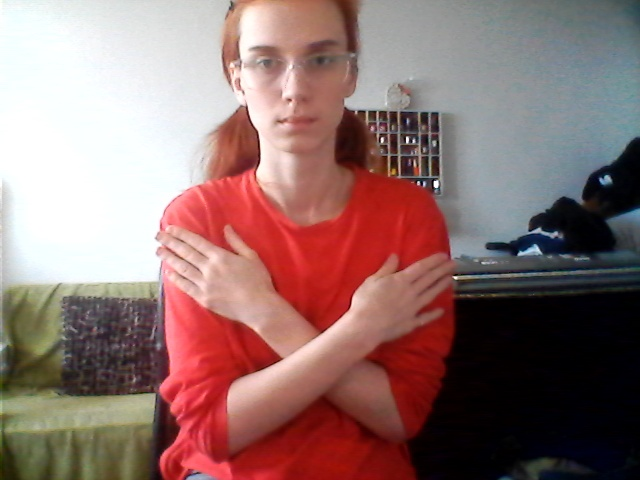z: (149, 214, 458, 445)
